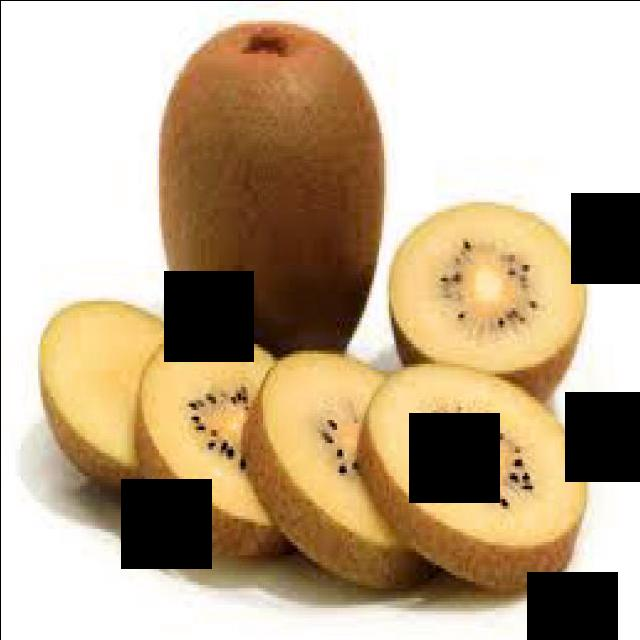kiwi: (154, 18, 384, 368)
